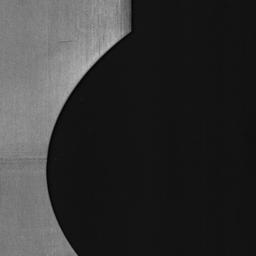Crescent gap: (46, 32, 130, 256)
